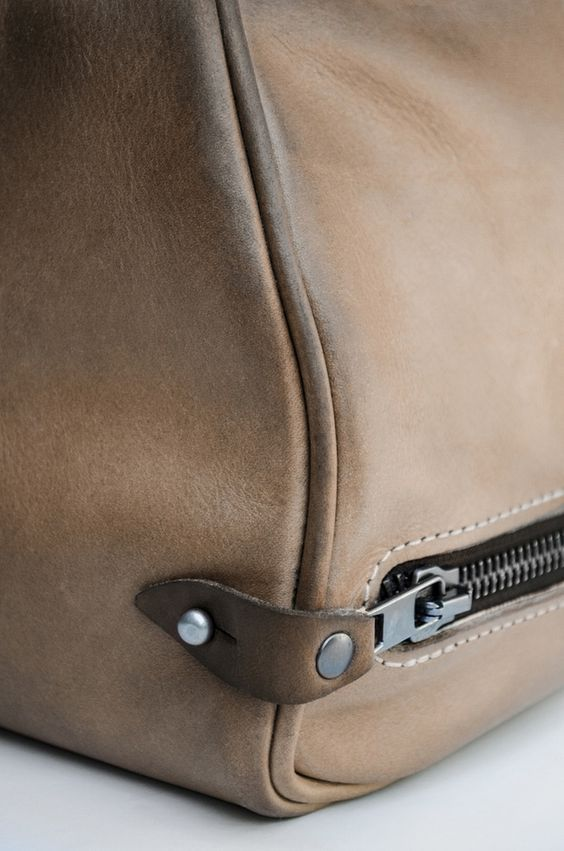cuero: (1, 1, 564, 820)
